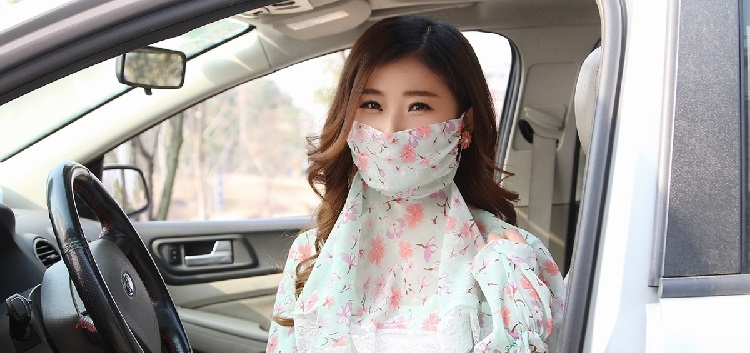face_mask: (348, 56, 462, 196)
